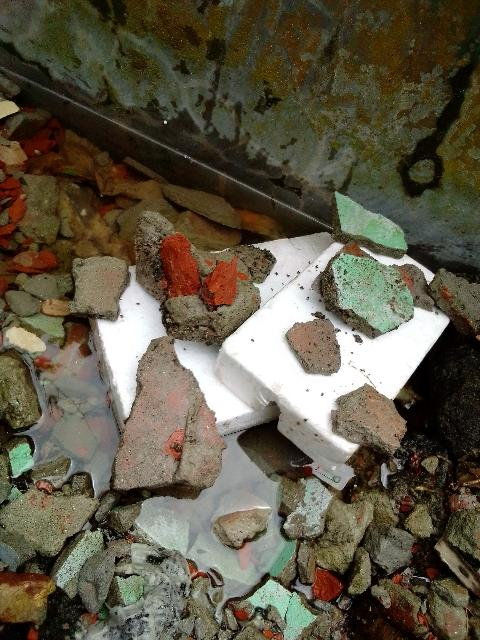cocksheet: (217, 218, 452, 452)
